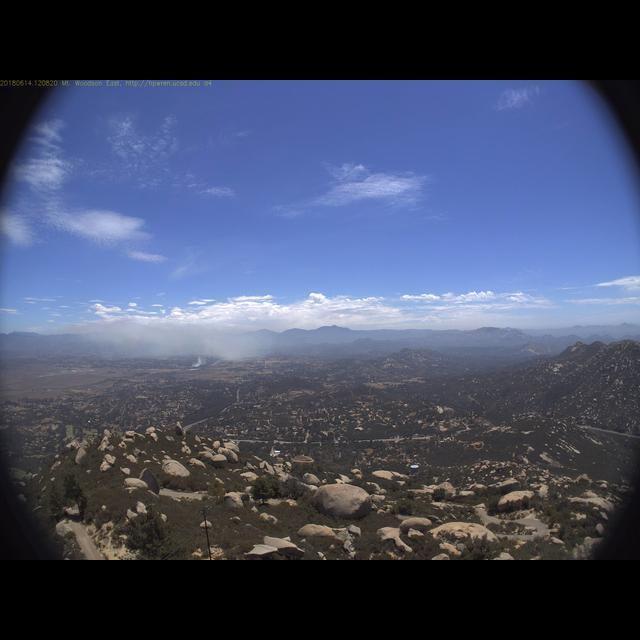Smoke: (70, 306, 280, 372)
